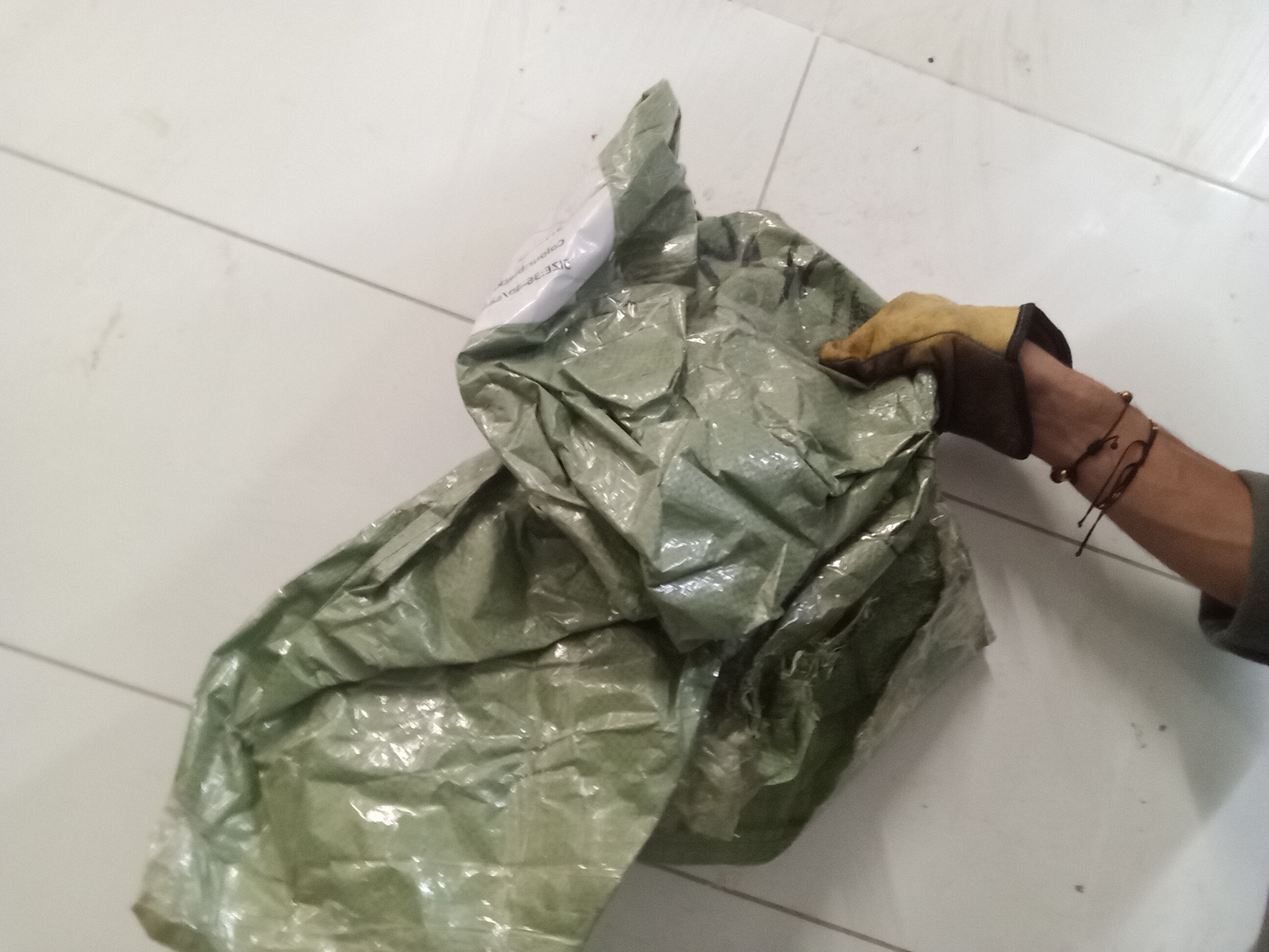Ordinario: (131, 80, 997, 952)
